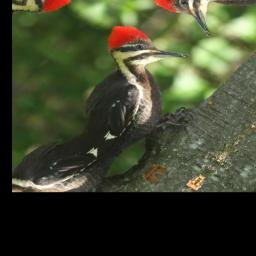Woodpecker: (35, 18, 232, 167)
